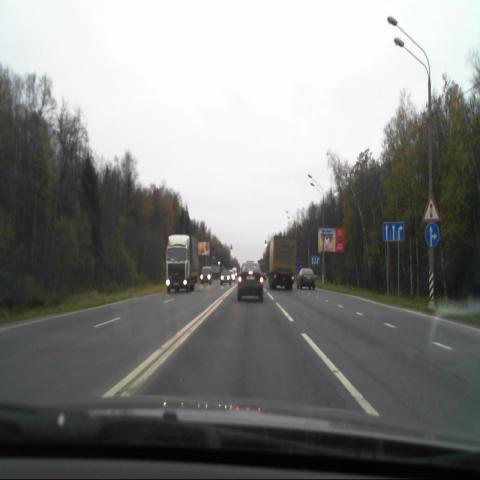4_1_4: (425, 222, 440, 248)
